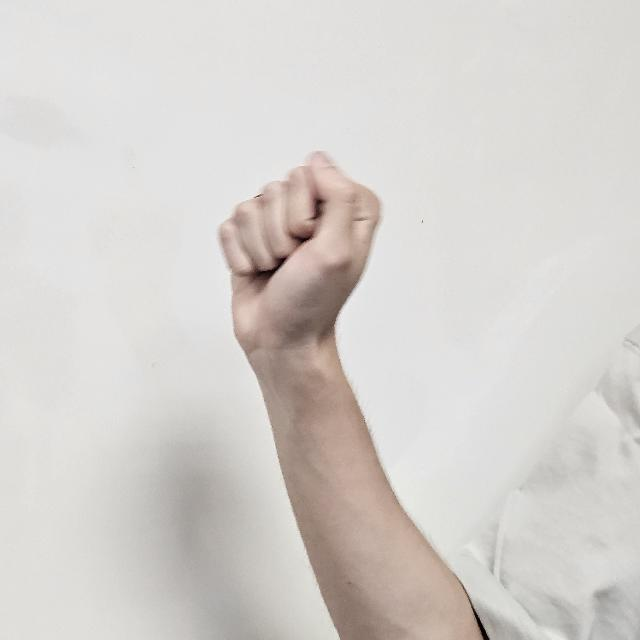Quadro: (215, 147, 383, 350)
